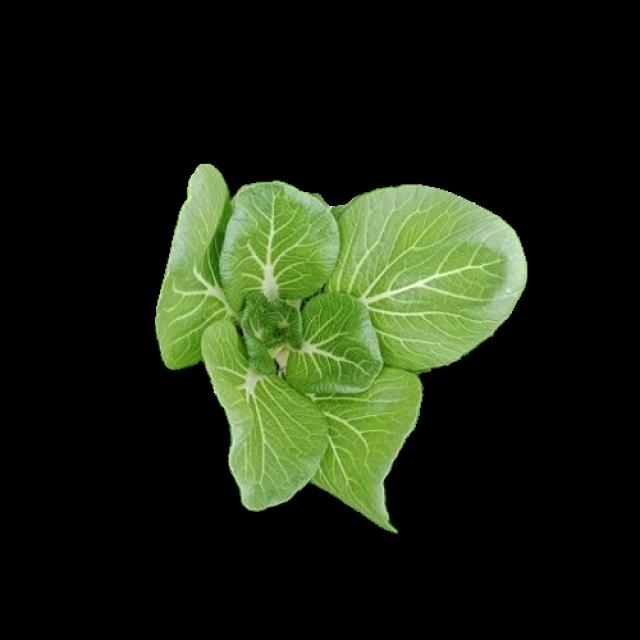healthy: (152, 164, 525, 528)
mature: (155, 166, 527, 532)
